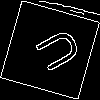U: (25, 25, 84, 79)
